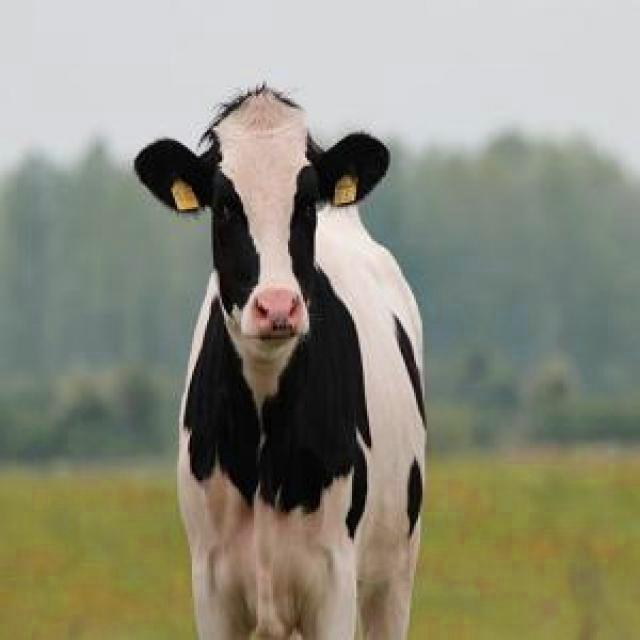cow: (135, 88, 425, 639)
